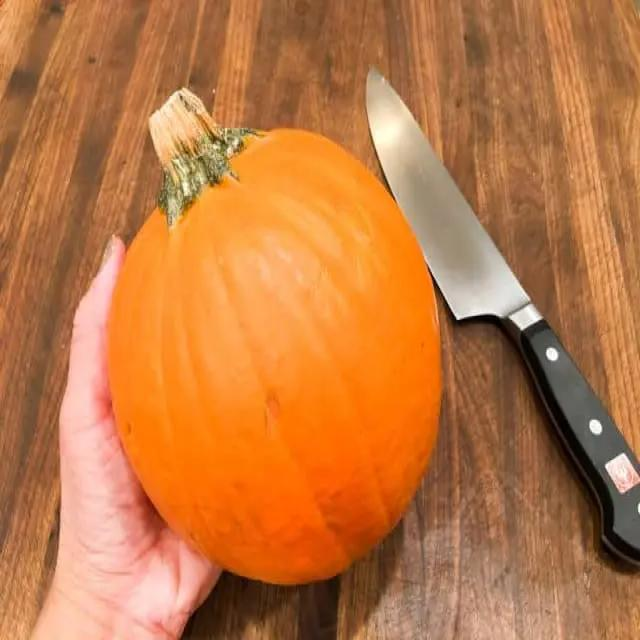pumpkin: (109, 88, 441, 583)
